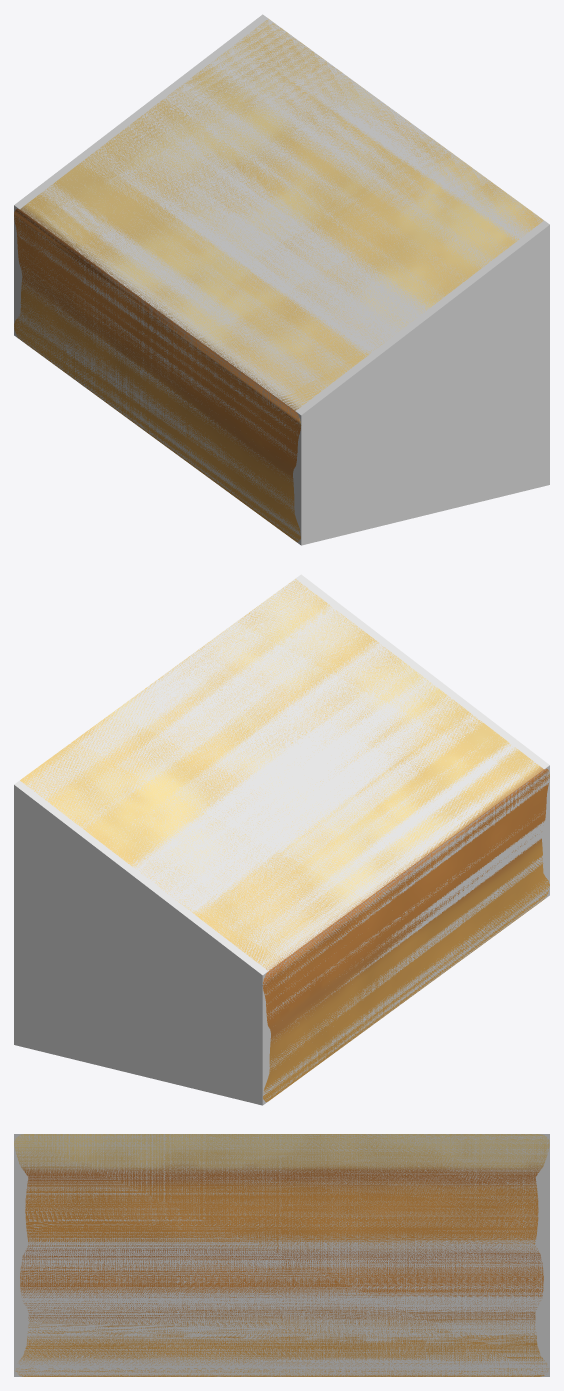
Rendered from SD_G05_Ground_Ramp.fbx.
The picture shows the model from 3 angles, top to bottom: view 1: azimuth 30°, elevation 25°; view 2: azimuth 150°, elevation 25°; view 3: azimuth 270°, elevation 25°; orthographic projection. The views are drawn at different scales.
Parts seen in each view (by area): view 1: COL_Ramp, SD_G05_Ground_Ramp; view 2: COL_Ramp, SD_G05_Ground_Ramp; view 3: SD_G05_Ground_Ramp, COL_Ramp.
Boxes of the visible parts, x1=… form: COL_Ramp: x1=14, y1=14, x2=549, y2=545; SD_G05_Ground_Ramp: x1=14, y1=18, x2=543, y2=542; COL_Ramp: x1=14, y1=574, x2=549, y2=1105; SD_G05_Ground_Ramp: x1=20, y1=579, x2=549, y2=1102; SD_G05_Ground_Ramp: x1=14, y1=1134, x2=549, y2=1376; COL_Ramp: x1=14, y1=1134, x2=549, y2=1376.
Bounding box in the file's own units: 2 × 2 × 4.
